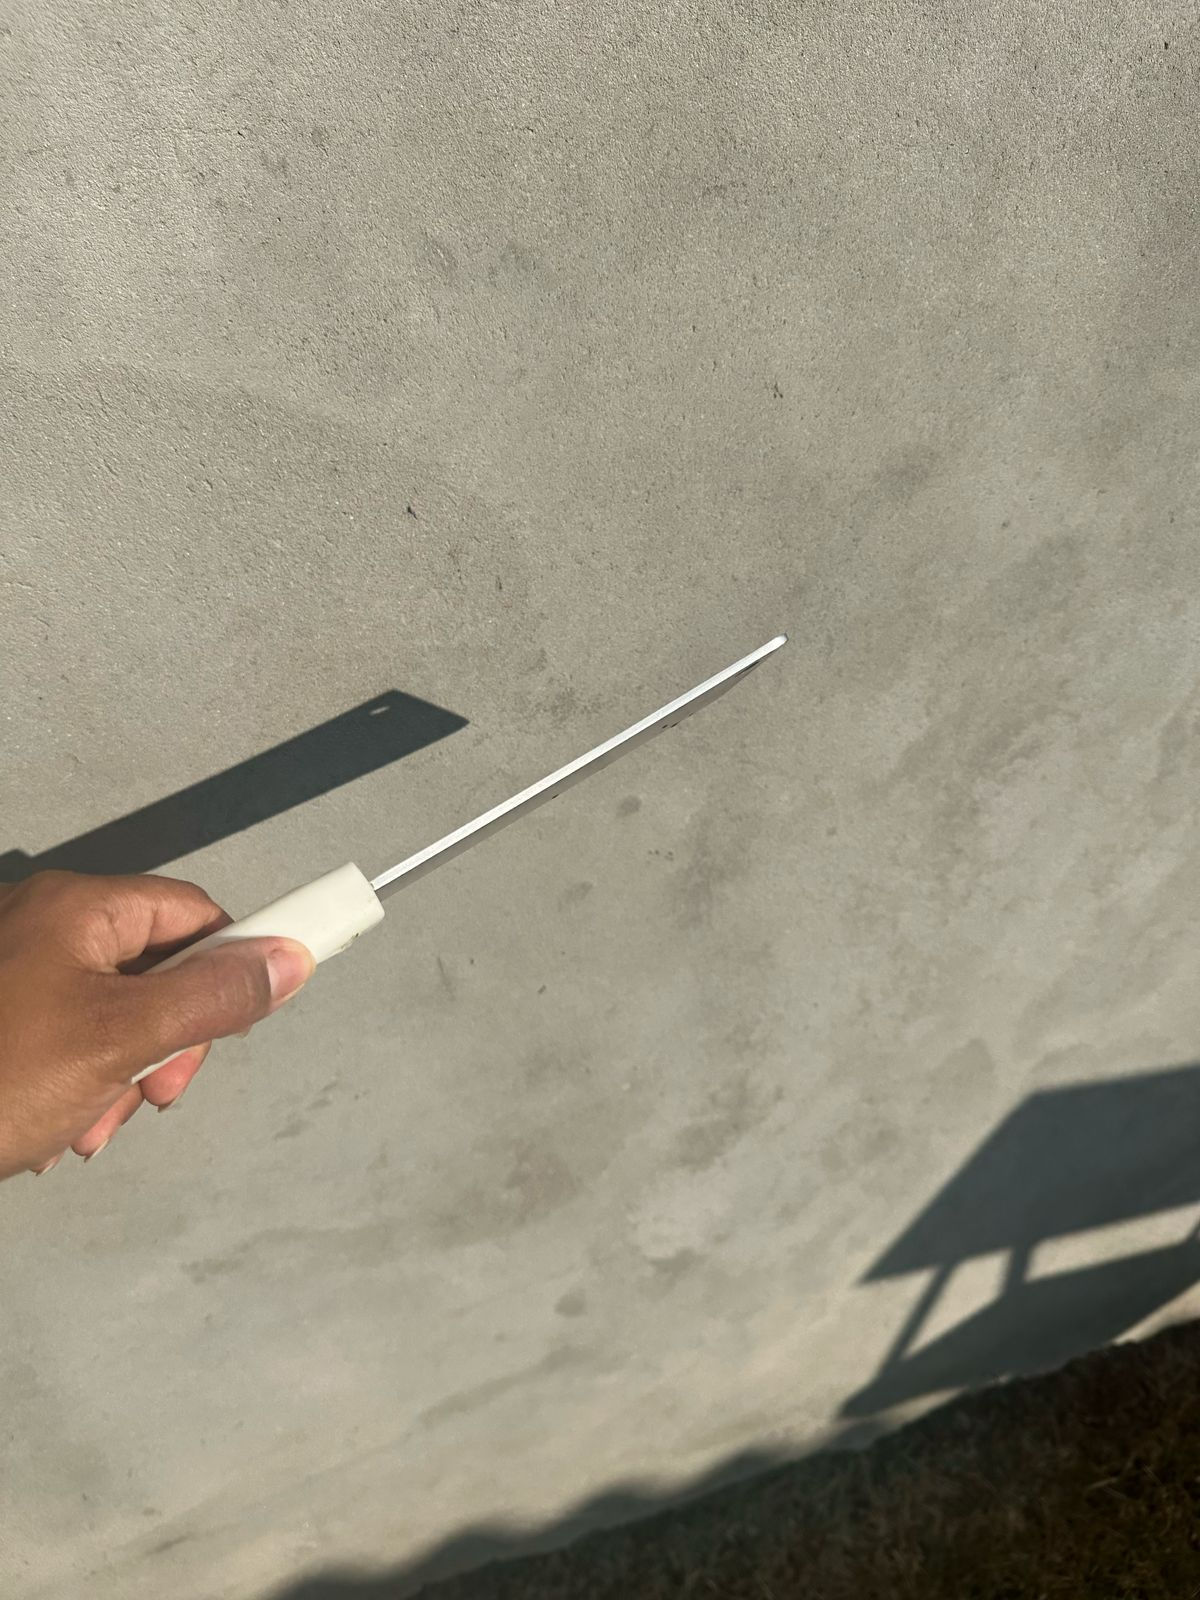faca: (308, 582, 827, 940)
